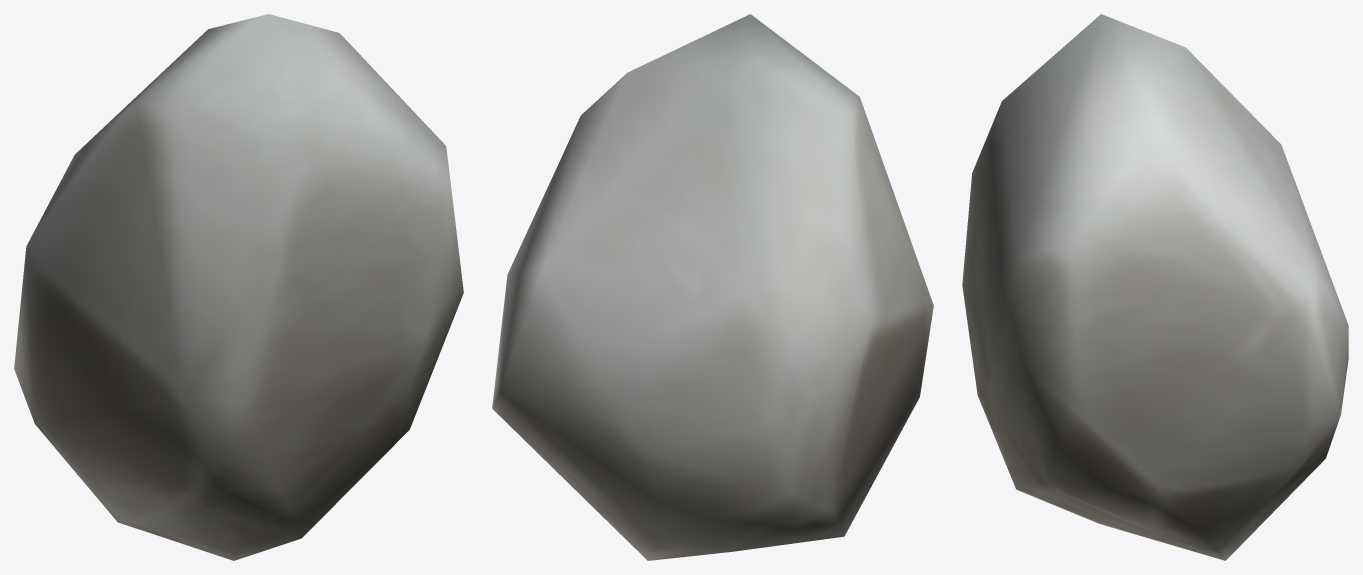
The model's file is SM_Gem_Silver_Piece_001.fbx.
3 views of the same model, side by side, from view 1: azimuth 30°, elevation 25°; view 2: azimuth 150°, elevation 25°; view 3: azimuth 270°, elevation 25° (orthographic). The views are drawn at different scales.
Parts seen in each view (by area): view 1: SM_Gem_Silver_Piece_001; view 2: SM_Gem_Silver_Piece_001; view 3: SM_Gem_Silver_Piece_001.
Boxes of the visible parts, x1=… form: SM_Gem_Silver_Piece_001: x1=14, y1=14, x2=463, y2=560; SM_Gem_Silver_Piece_001: x1=492, y1=14, x2=933, y2=560; SM_Gem_Silver_Piece_001: x1=962, y1=14, x2=1348, y2=560.
Bounding box in the file's own units: 14.47 × 20.31 × 13.5.
